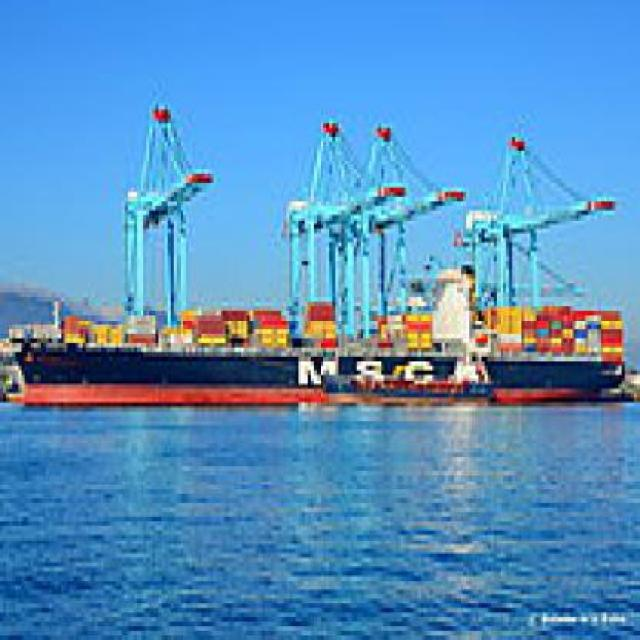container: (1, 276, 629, 417)
